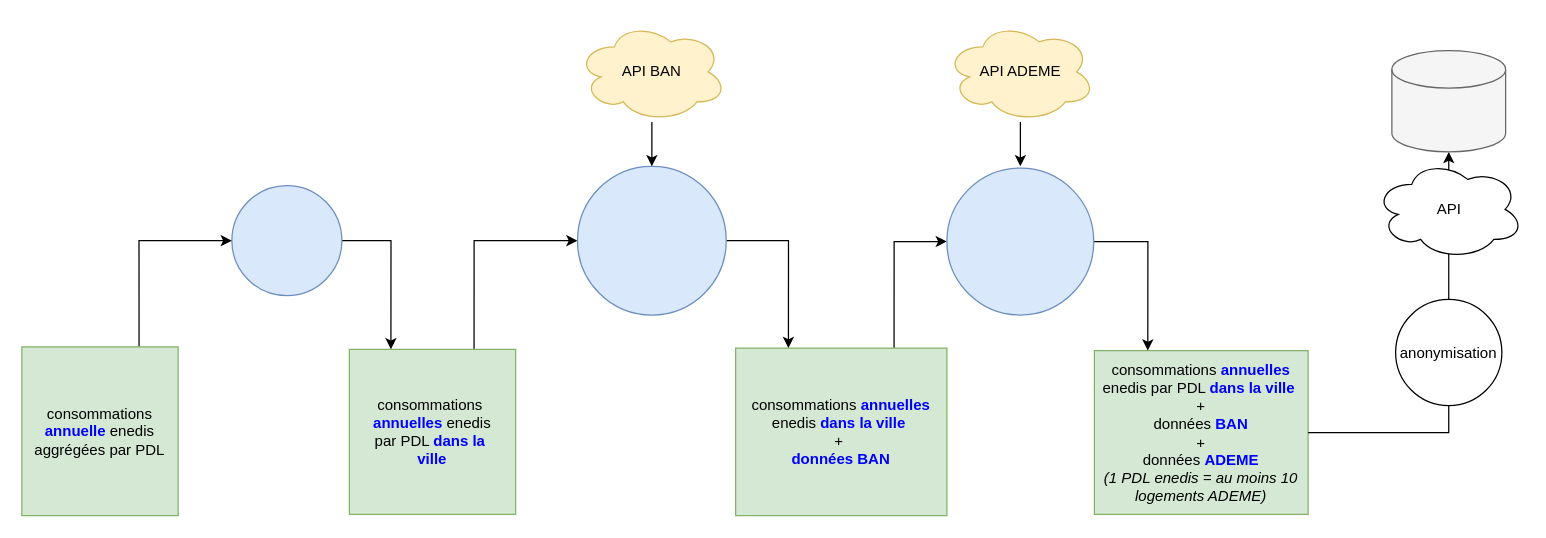
Image size: 1546x538. Some labels were removed from this diagram. Here are the shapes that lost their labels. From the top down, the box of each, then its label:
(1391, 49, 1506, 152): EXPORT sgbd
(231, 184, 342, 296): filtre code_postal = 75
(576, 165, 726, 315): adresses => (Id_BAN + autres variables dont adresse normalisées)
(946, 167, 1094, 315): id_BAN => données ADEME (caract. des logements dont DPE avant et après 2021)
